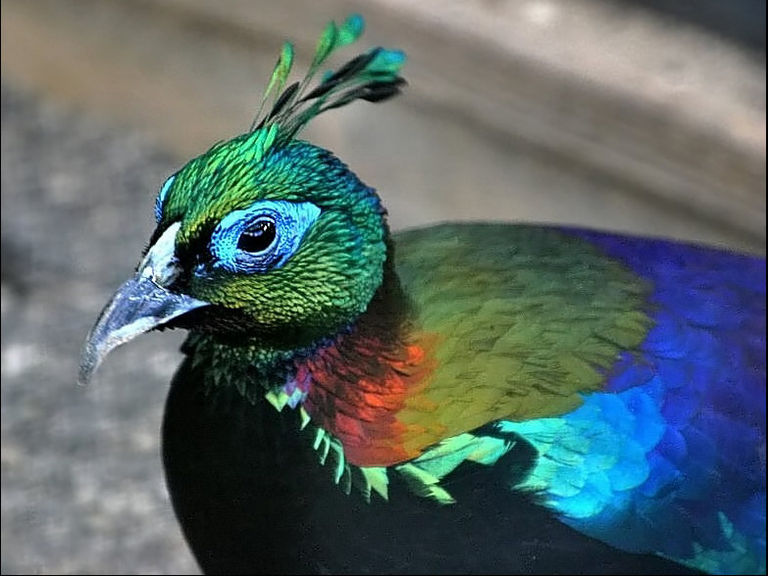bird: (60, 13, 768, 576)
